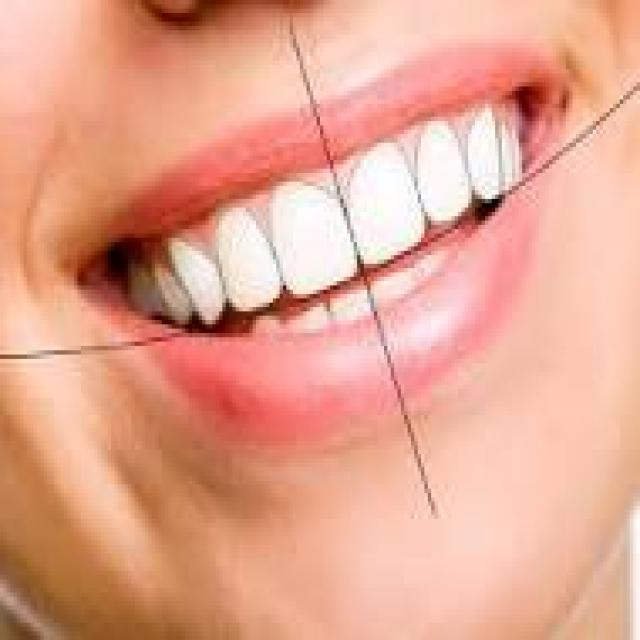tooth: (276, 190, 351, 277), (222, 220, 273, 298), (350, 182, 414, 242), (414, 138, 475, 194), (185, 238, 229, 307), (472, 130, 512, 190), (158, 272, 192, 320)
